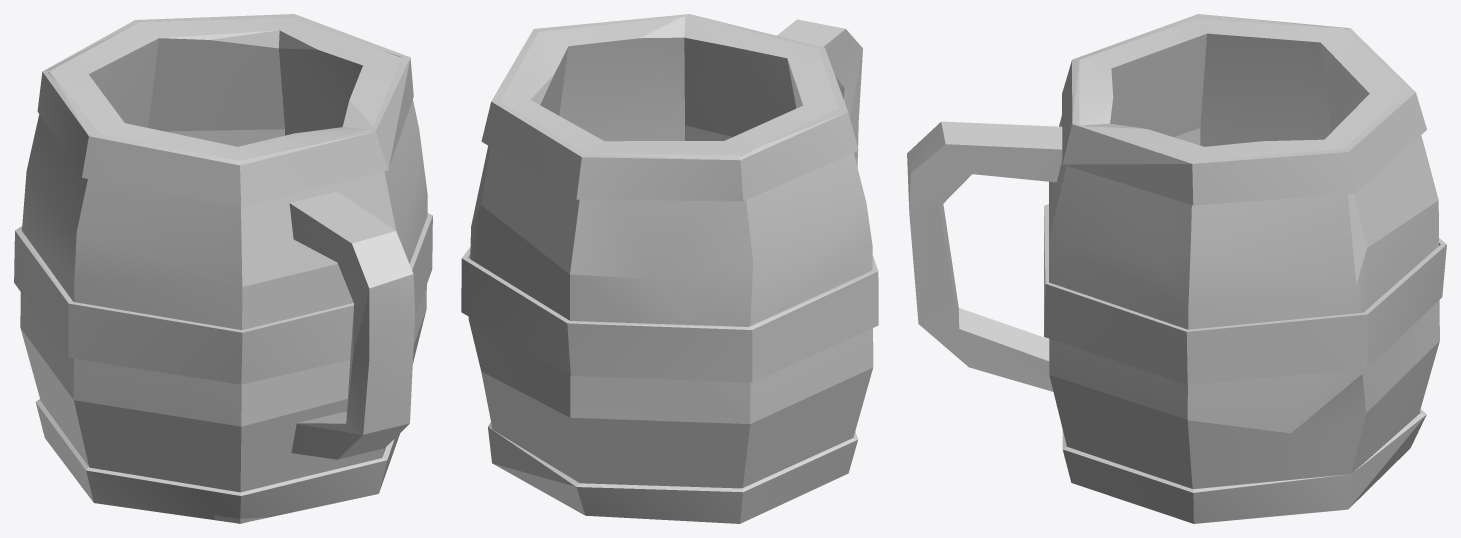
The model's file is GelasInterior.fbx.
3 views of the same model, side by side, from view 1: azimuth 30°, elevation 25°; view 2: azimuth 150°, elevation 25°; view 3: azimuth 270°, elevation 25° (orthographic).
Visible parts, largest first — view 1: mugShabby; view 2: mugShabby; view 3: mugShabby.
Boxes of the visible parts, left/top/right/bottom form: mugShabby: left=14, top=14, right=432, bottom=523; mugShabby: left=461, top=14, right=878, bottom=523; mugShabby: left=907, top=14, right=1446, bottom=523.
Bounding box in the file's own units: 19.74 × 19.14 × 25.74.
